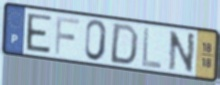0: (84, 19, 109, 63)
D: (108, 22, 140, 67)
E: (26, 12, 53, 56)
F: (53, 15, 81, 56)
L: (140, 25, 163, 71)
N: (168, 29, 197, 75)
